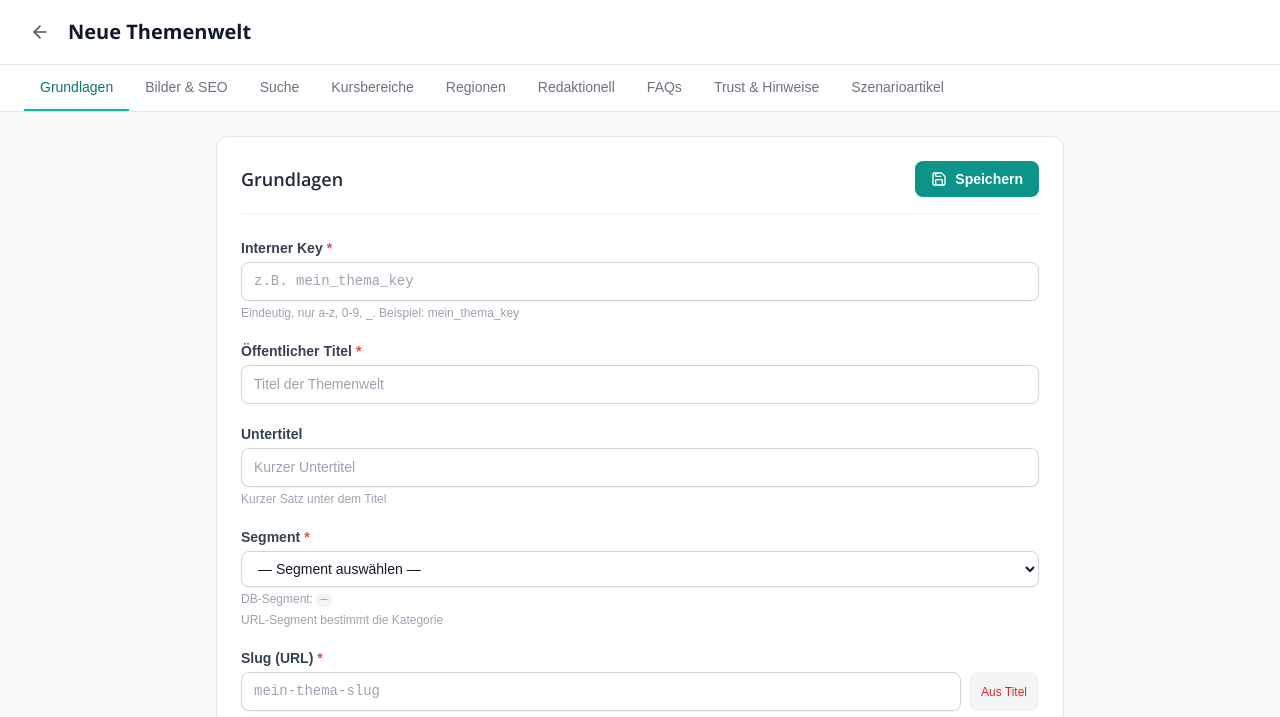
Segment-Mapping: Gültige Werte via Component › kinder-jugend → kinder wird angezeigt
Select "Kinder & Jugend" in the dropdown at (640, 569), box [241,551,1039,587]
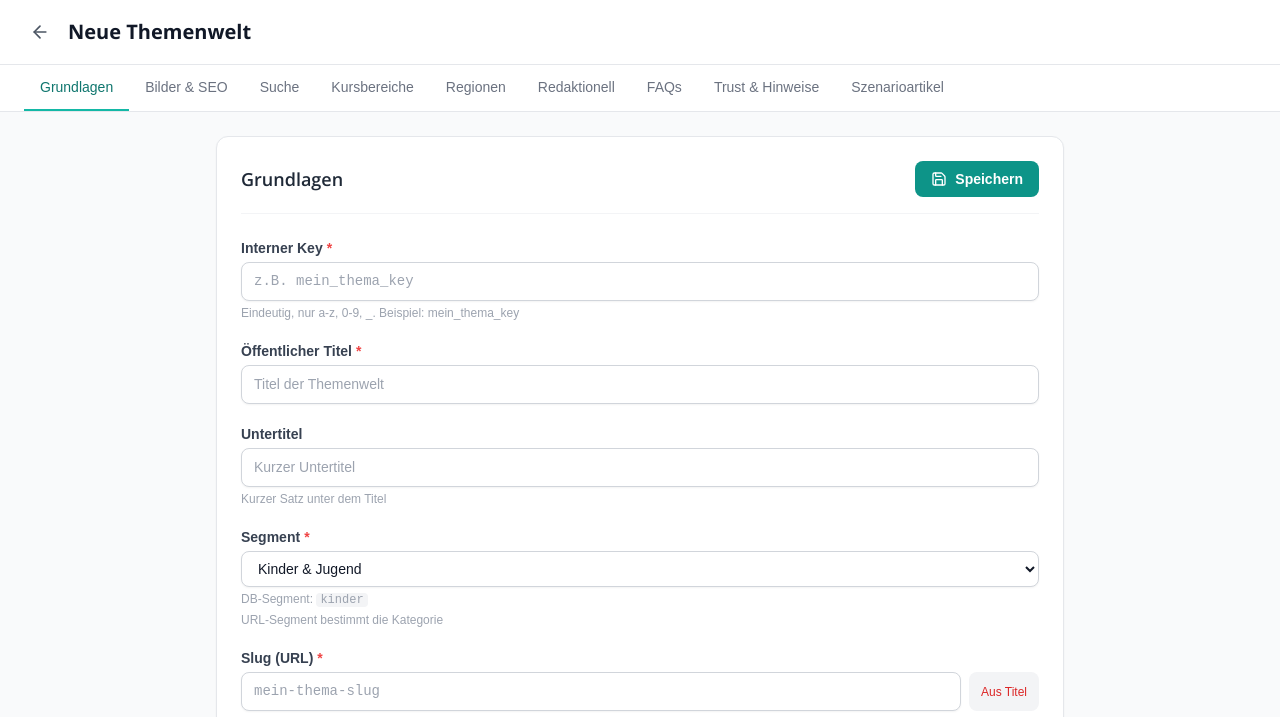
Result: the text "DB-Segment: kinder" is shown at [241,592,368,607]
Result: the text "DB-Segment:" no longer shows "—"
